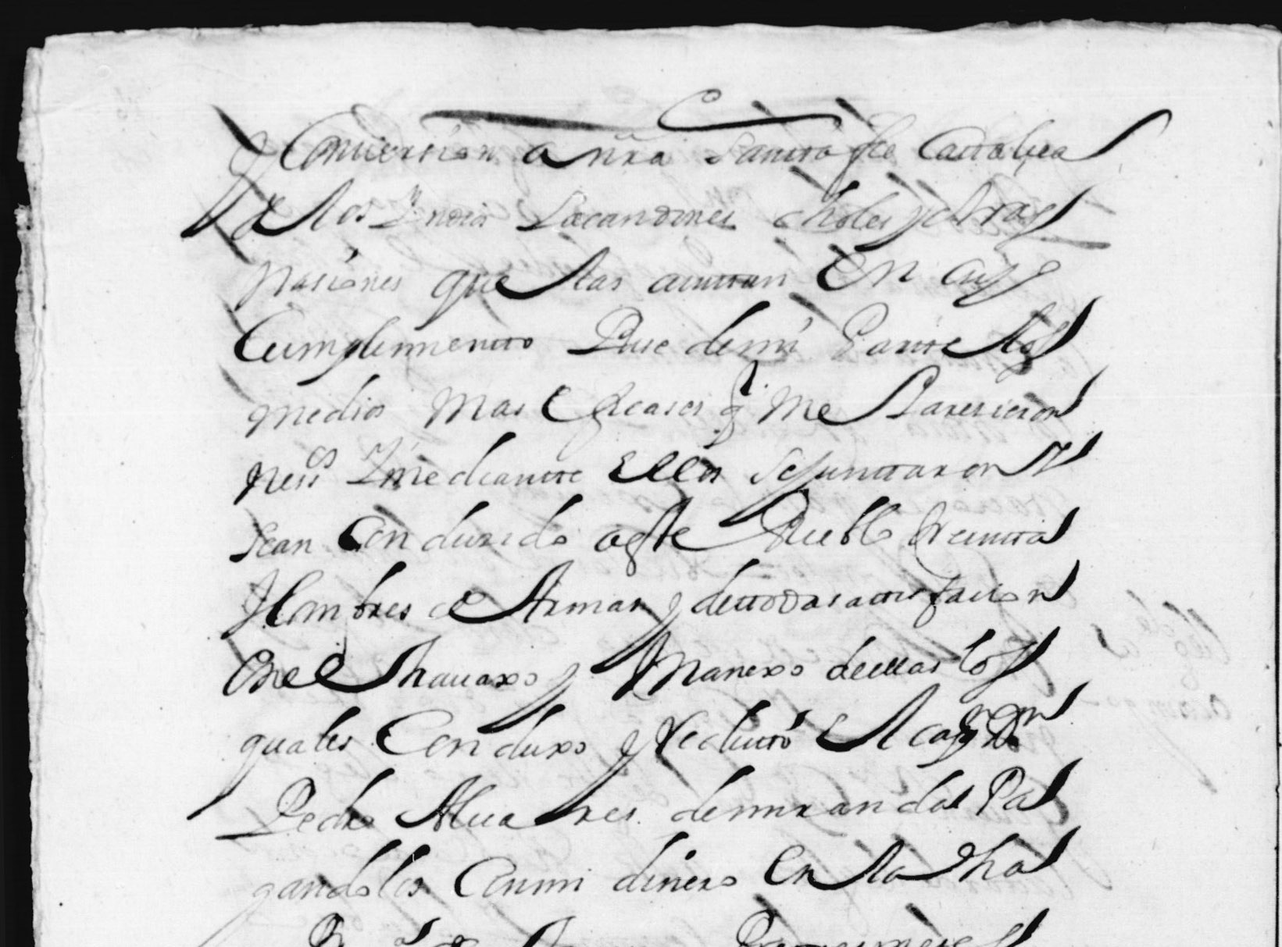lacandon: (516, 190, 735, 231)
